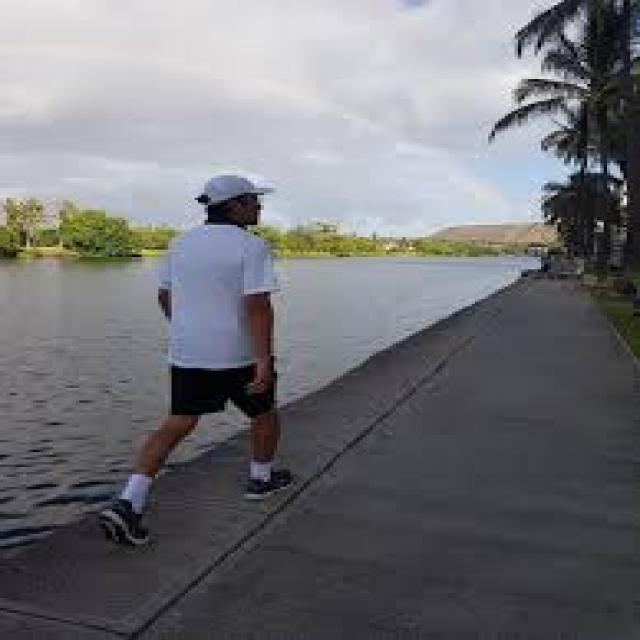not_lay: (102, 175, 287, 541)
